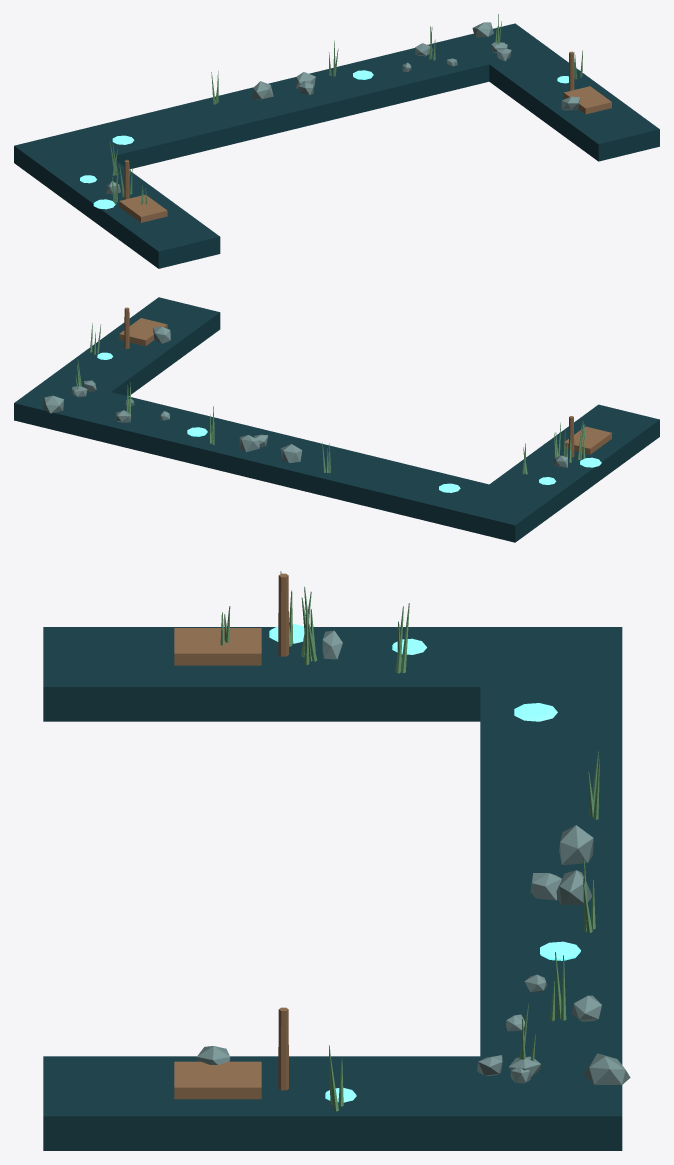
The model's file is river.glb.
3 renders of one model, top to bottom at view 1: azimuth 30°, elevation 25°; view 2: azimuth 150°, elevation 25°; view 3: azimuth 270°, elevation 25°, orthographic. The views are drawn at different scales.
Visible parts, largest first — view 1: field_river; view 2: field_river; view 3: field_river.
Part boxes in pixels (left/top/right/bottom): field_river: left=14, top=14, right=659, bottom=268; field_river: left=14, top=297, right=659, bottom=542; field_river: left=43, top=571, right=630, bottom=1150.
Size of the model in its own units: 10.64 by 1.15 by 5.38.
